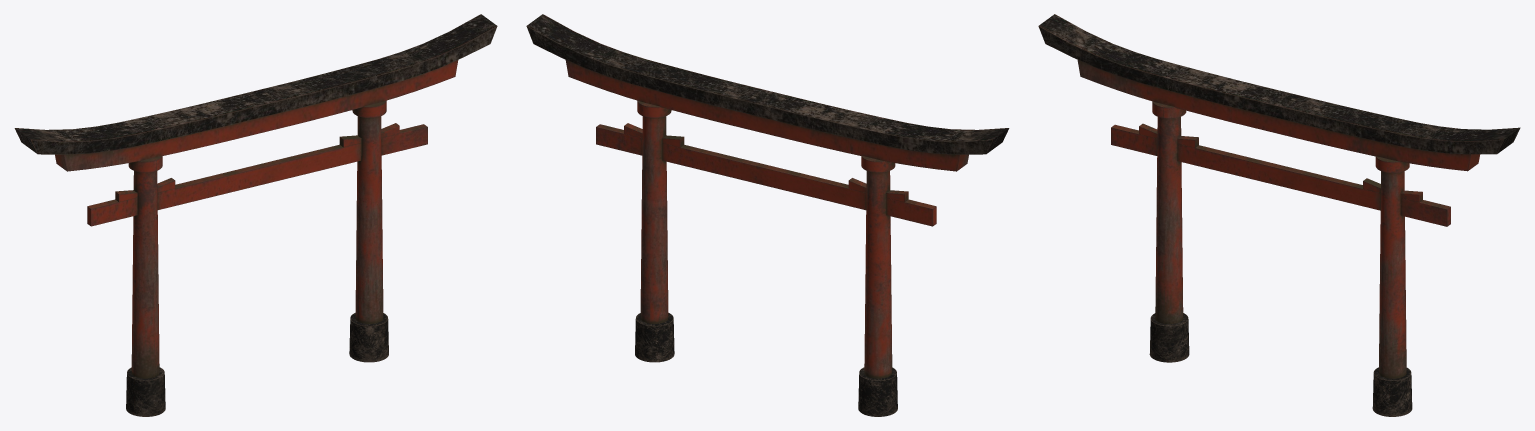
The model's file is bk-torii-gate.glb.
3 views of the same model, side by side, from view 1: azimuth 30°, elevation 25°; view 2: azimuth 150°, elevation 25°; view 3: azimuth 330°, elevation 25° (orthographic).
Visible parts, largest first — view 1: Torii Gate; view 2: Torii Gate; view 3: Torii Gate.
Part boxes in pixels (bbox=[...]): Torii Gate: bbox=[14, 14, 497, 416]; Torii Gate: bbox=[526, 14, 1009, 416]; Torii Gate: bbox=[1038, 14, 1520, 416].
Size of the model in its own units: 1 by 0.624 by 0.0737.
1 material, 1 textured.
